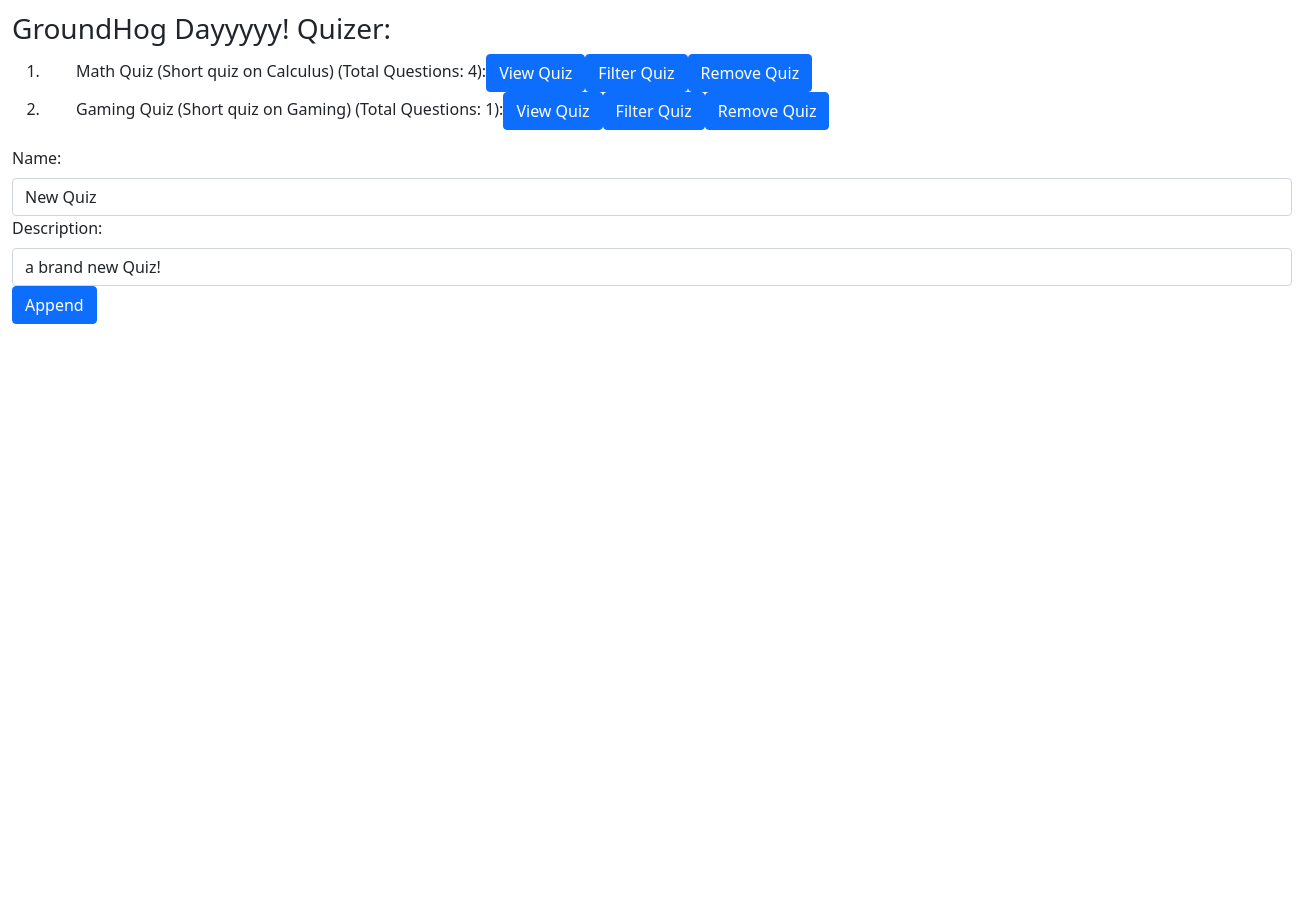
it: Questions Tests › Editing the name and student status changes the text
Click the button with test id "view-quiz-button" in the row of "Short quiz on Calculus" at (536, 73), box [486, 54, 585, 92]
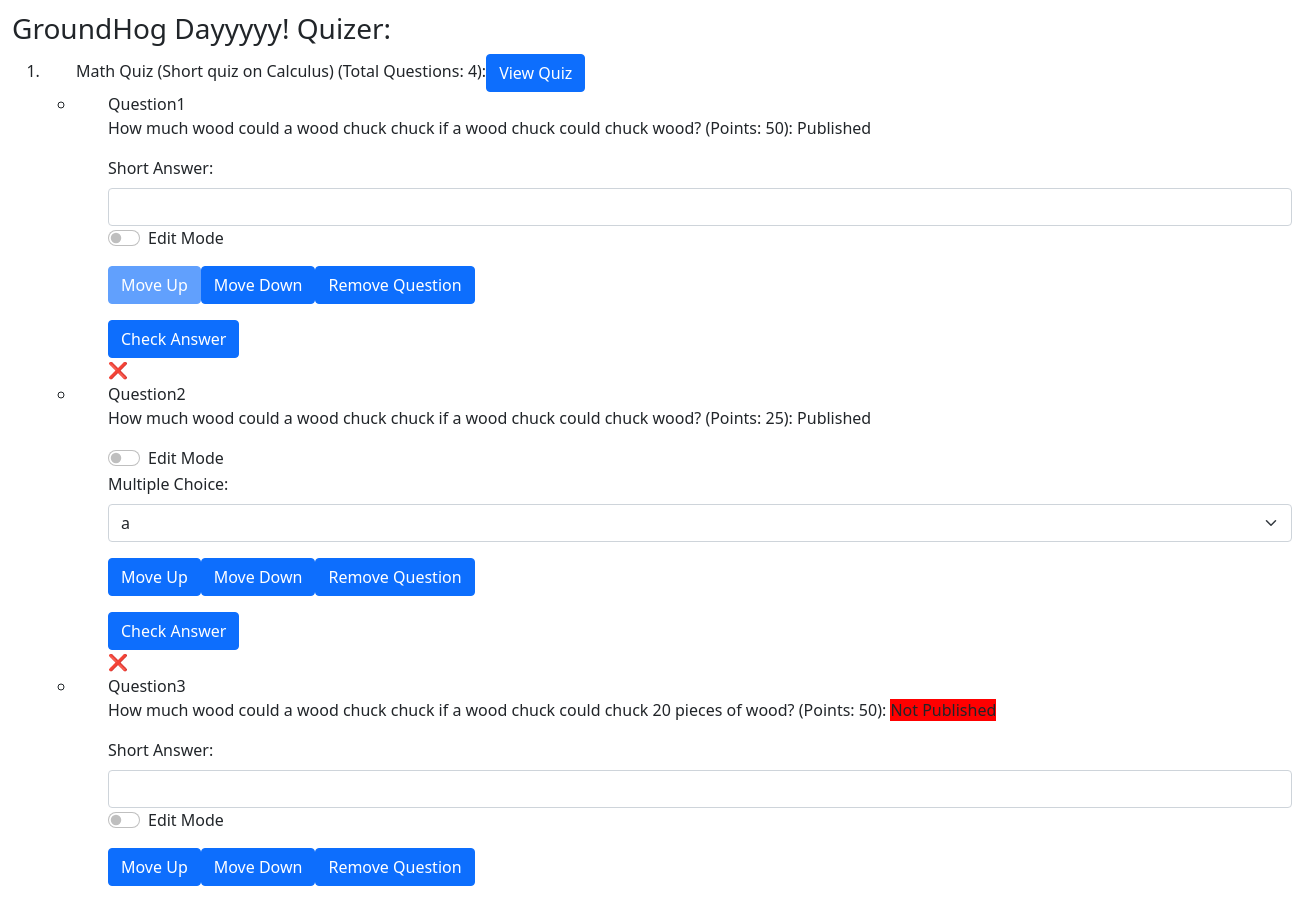
Click the checkbox labelled "Edit Mode" at (124, 238), box [108, 230, 140, 246]
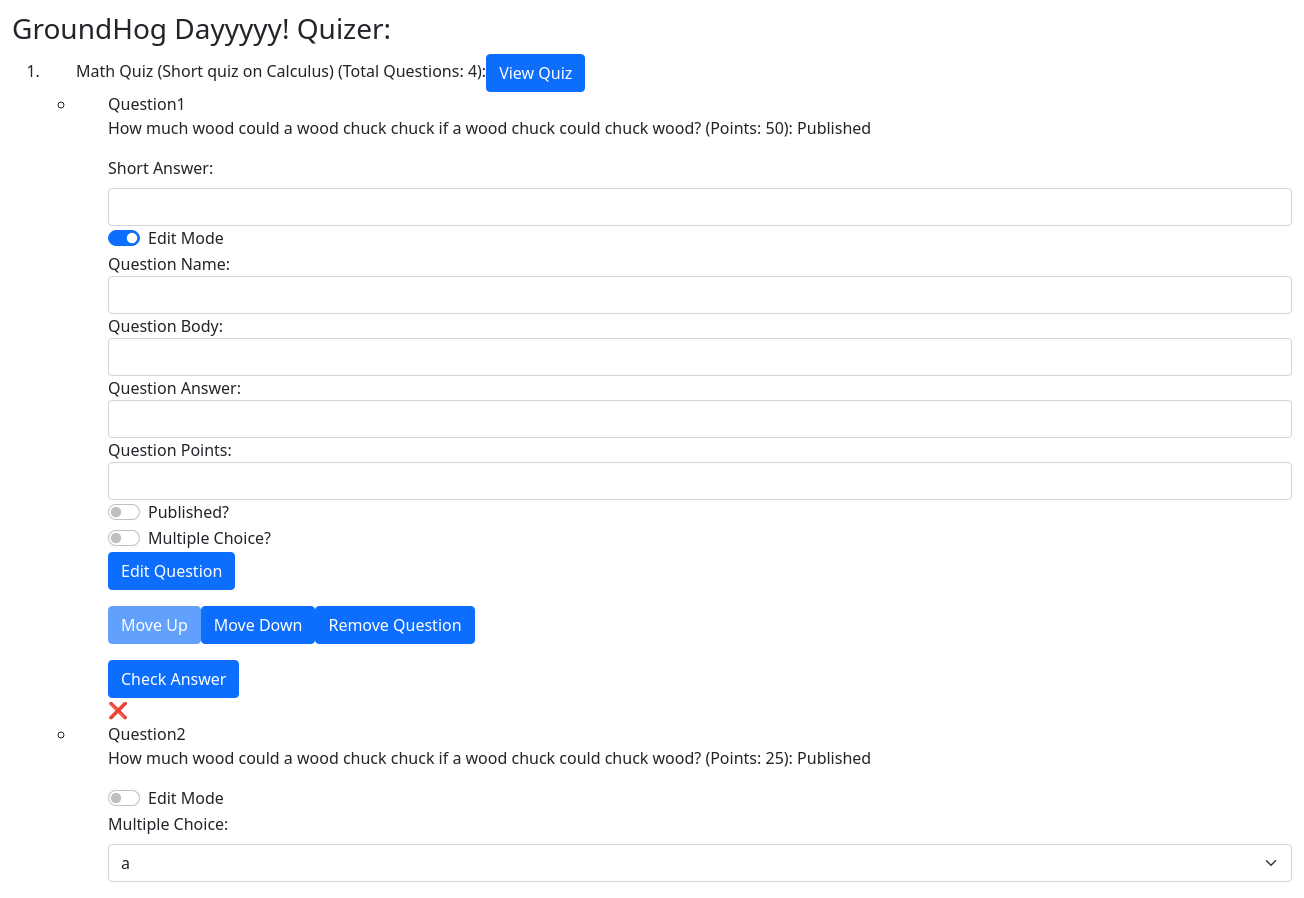
Type "Ada Lovelace" into the field with test id "edit-name-field" at (700, 295), box [108, 276, 1292, 314]
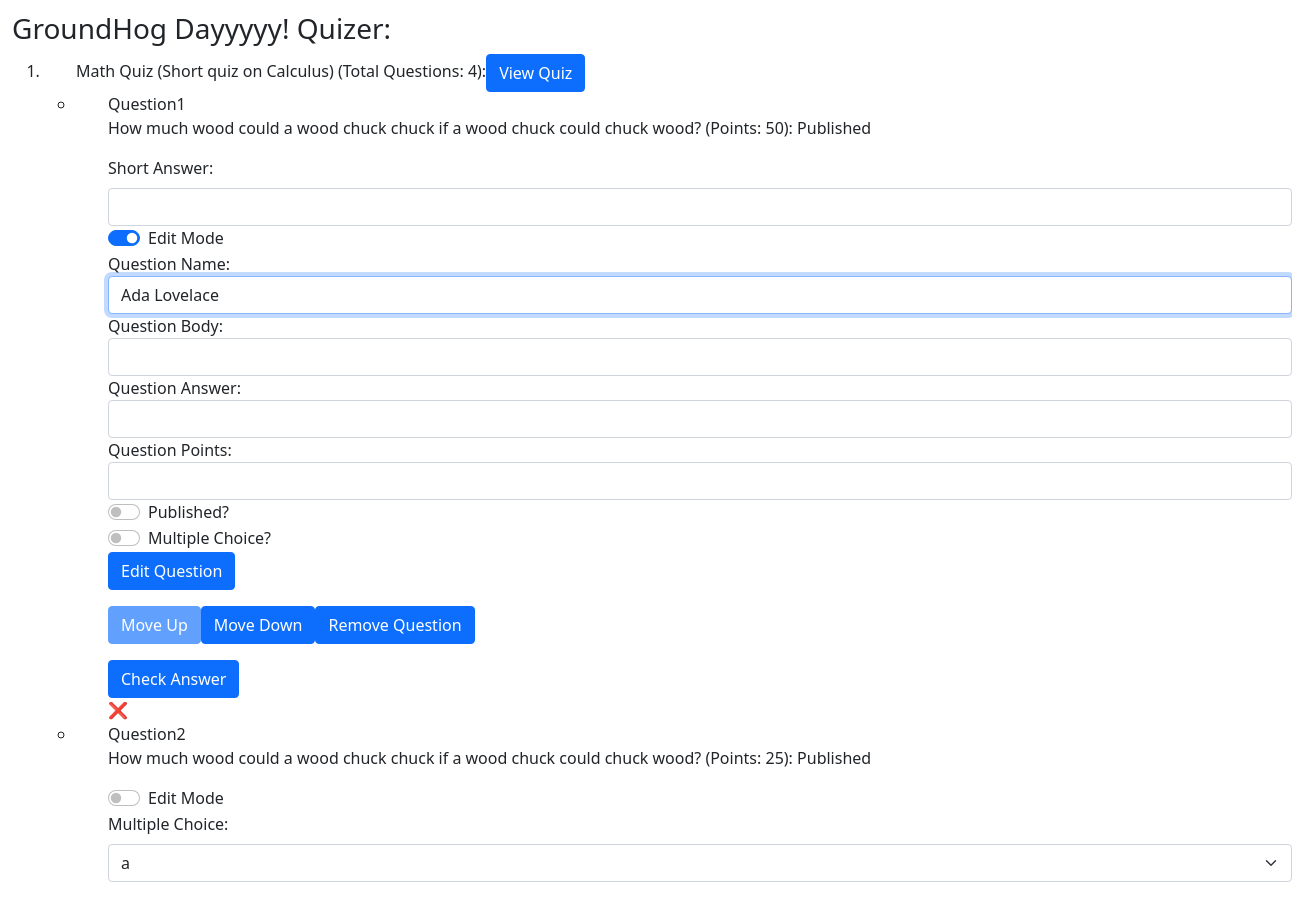
Type "Ada My Love" into the field with test id "edit-body-field" at (700, 357), box [108, 338, 1292, 376]
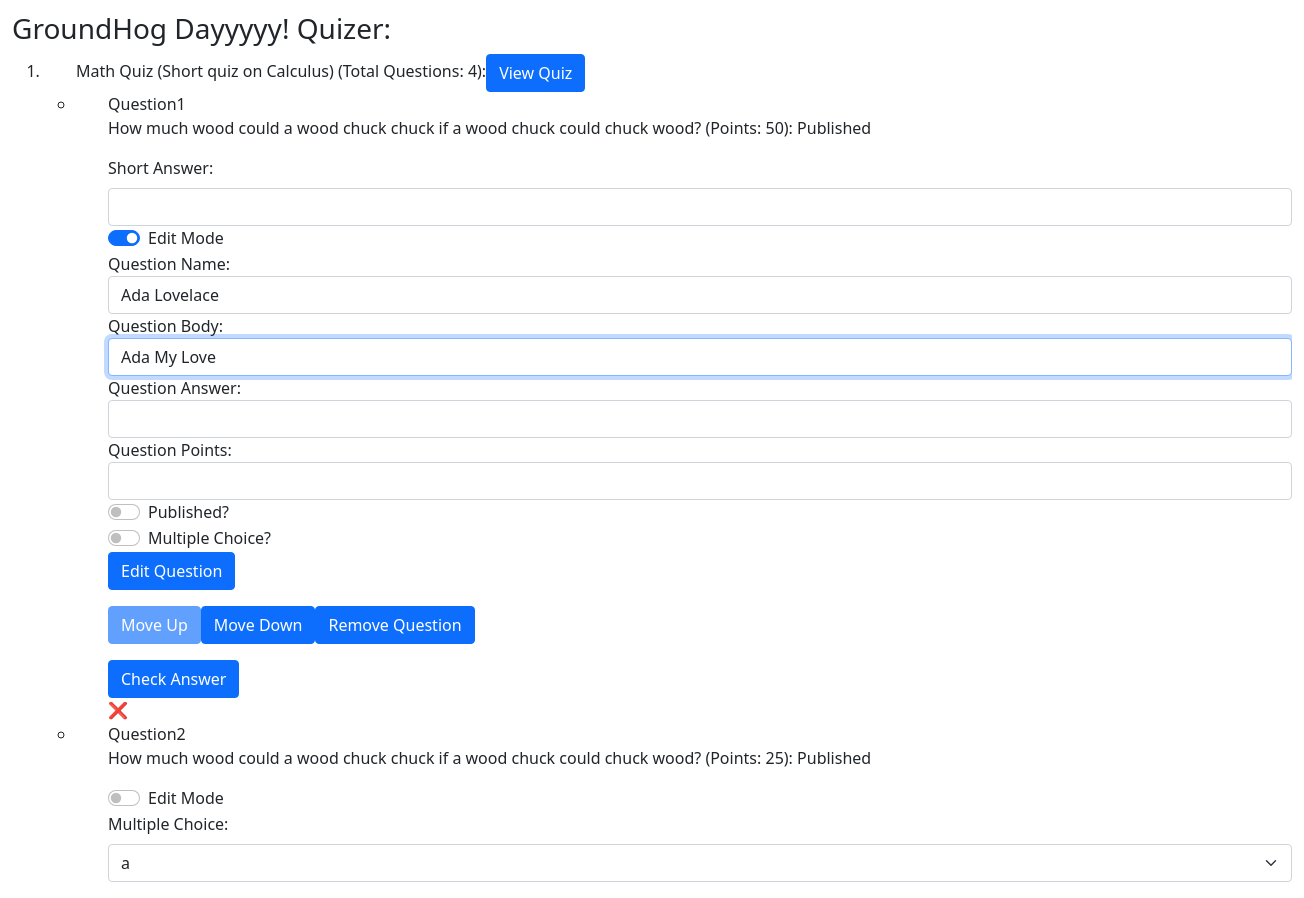
Click the button with test id "edit-question-button" at (172, 571), box [108, 552, 235, 590]
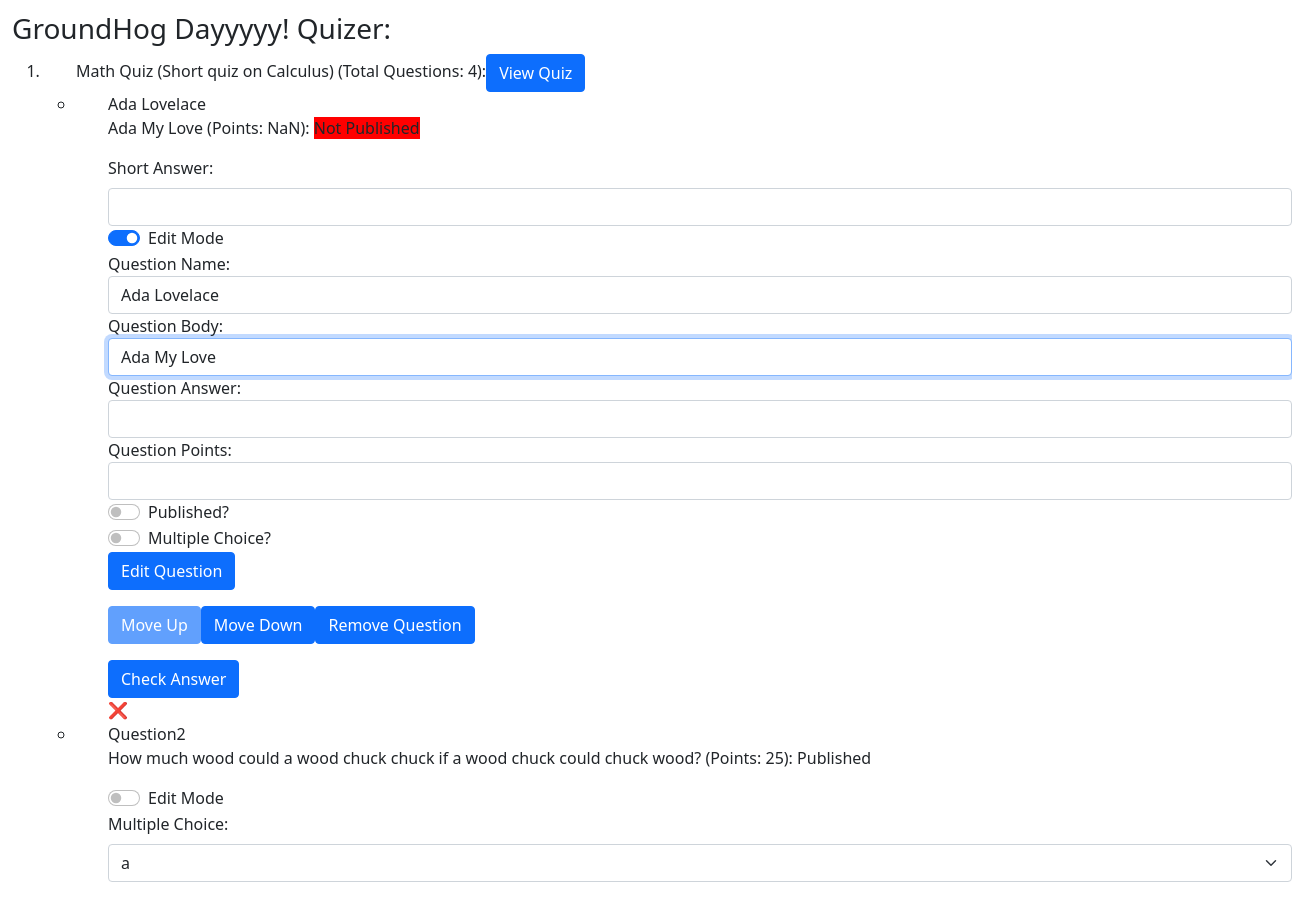
expect the text "Ada Lovelace" is shown: met, box [108, 93, 206, 115]
expect the text "Ada My Love (Points: NaN): Not Published" is shown: met, box [108, 117, 420, 139]
